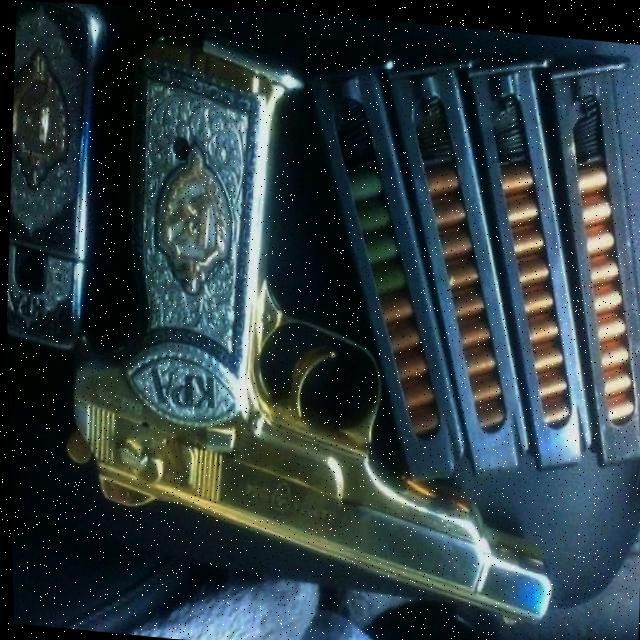pistol: (50, 14, 578, 625)
